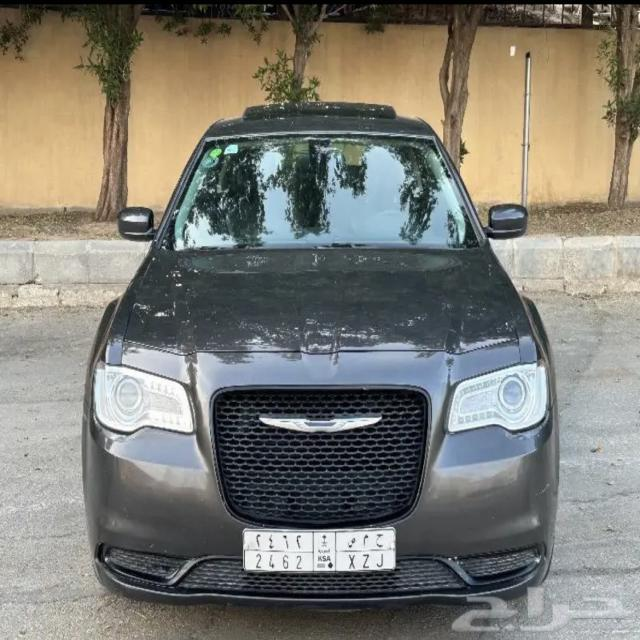license_plate: (241, 528, 397, 578)
